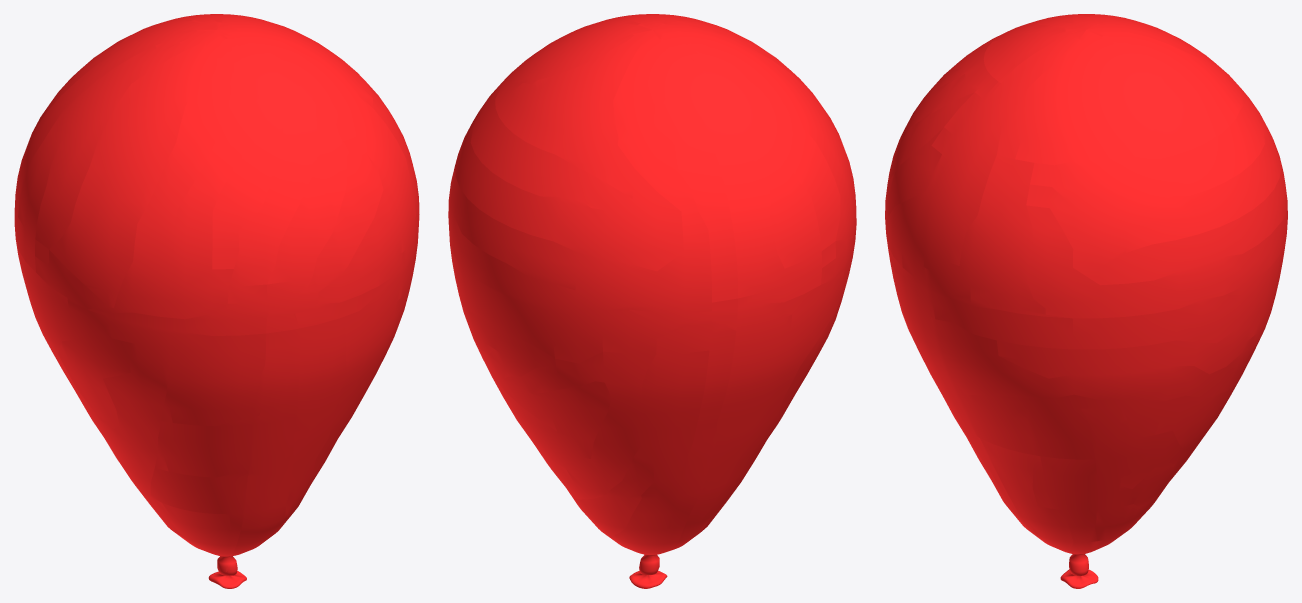
The model's file is balloon.fbx.
The picture shows the model from 3 angles, left to right: view 1: azimuth 30°, elevation 25°; view 2: azimuth 150°, elevation 25°; view 3: azimuth 270°, elevation 25°; orthographic projection.
Visible parts, largest first — view 1: Sphere; view 2: Sphere; view 3: Sphere.
Boxes of the visible parts, x1,y1,x2,y2 form: Sphere: [14, 14, 419, 588]; Sphere: [448, 14, 856, 588]; Sphere: [885, 14, 1287, 588].
Bounding box in the file's own units: 191 × 287 × 191.
